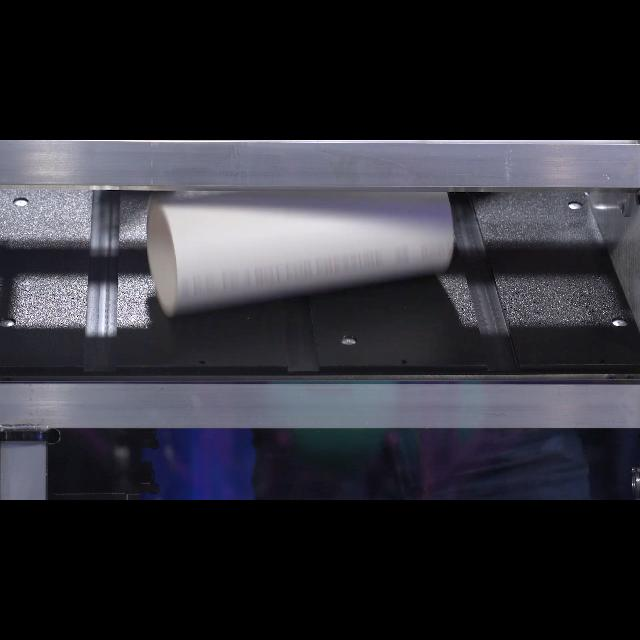CORAL: (146, 192, 454, 318)
